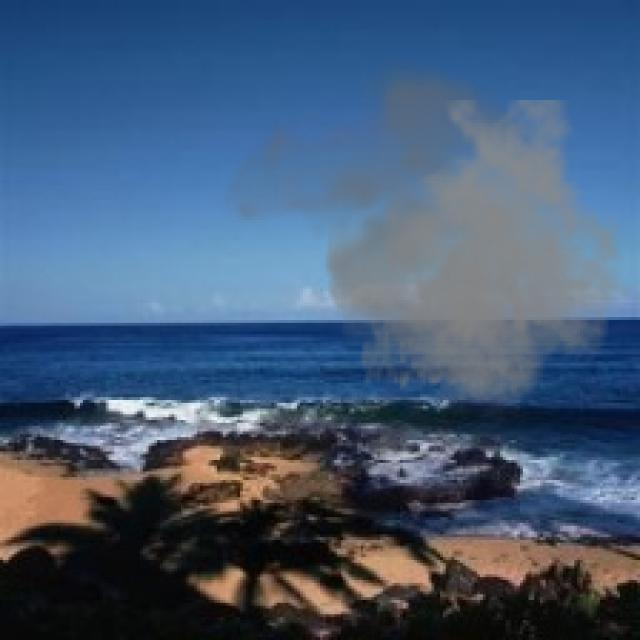Smoke: (217, 54, 632, 429)
